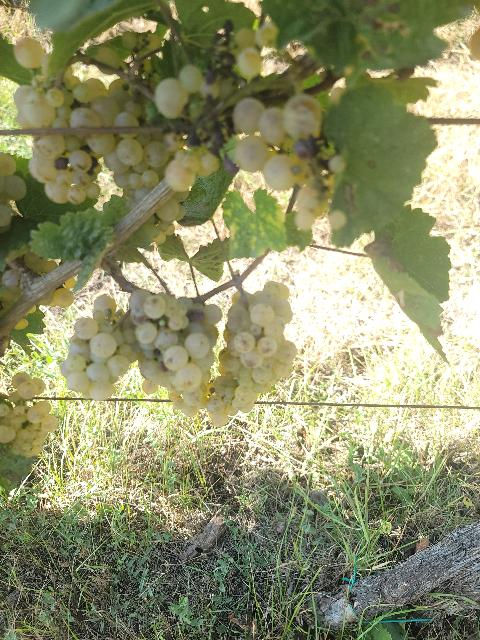grapes: (205, 281, 296, 426), (129, 289, 222, 409), (14, 38, 108, 130), (61, 295, 138, 400), (29, 134, 116, 205), (0, 371, 59, 458)
